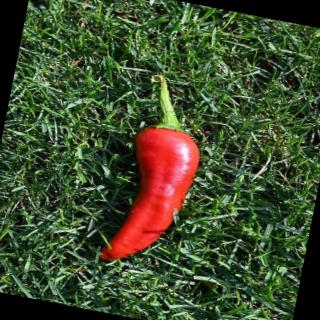Cabai Merah: (99, 71, 214, 275)
